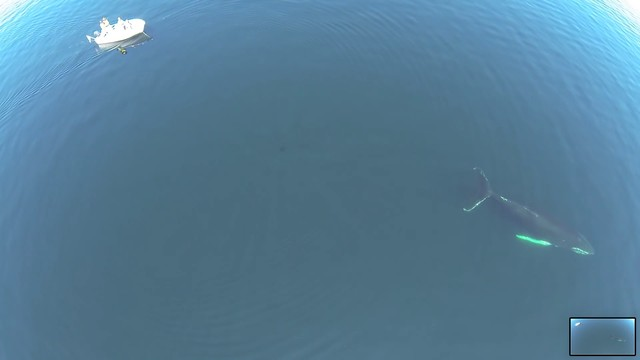whale: (454, 155, 600, 265)
